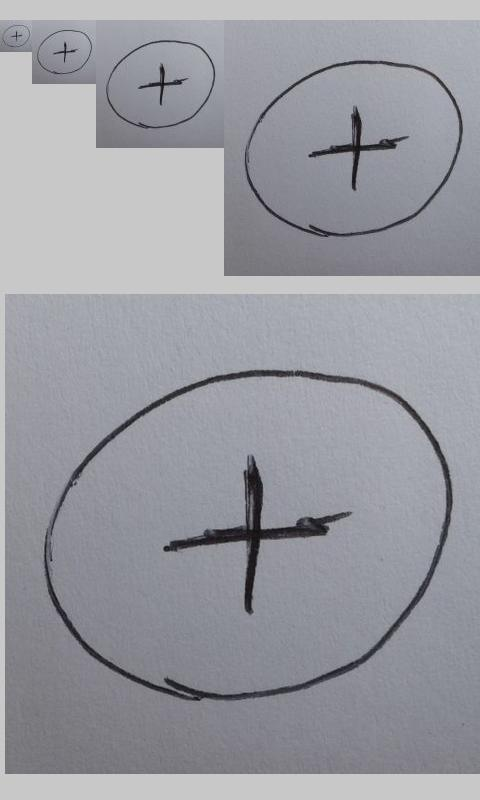button: (43, 366, 455, 706), (244, 59, 465, 238), (106, 40, 216, 129), (36, 29, 93, 75), (2, 24, 31, 48)
